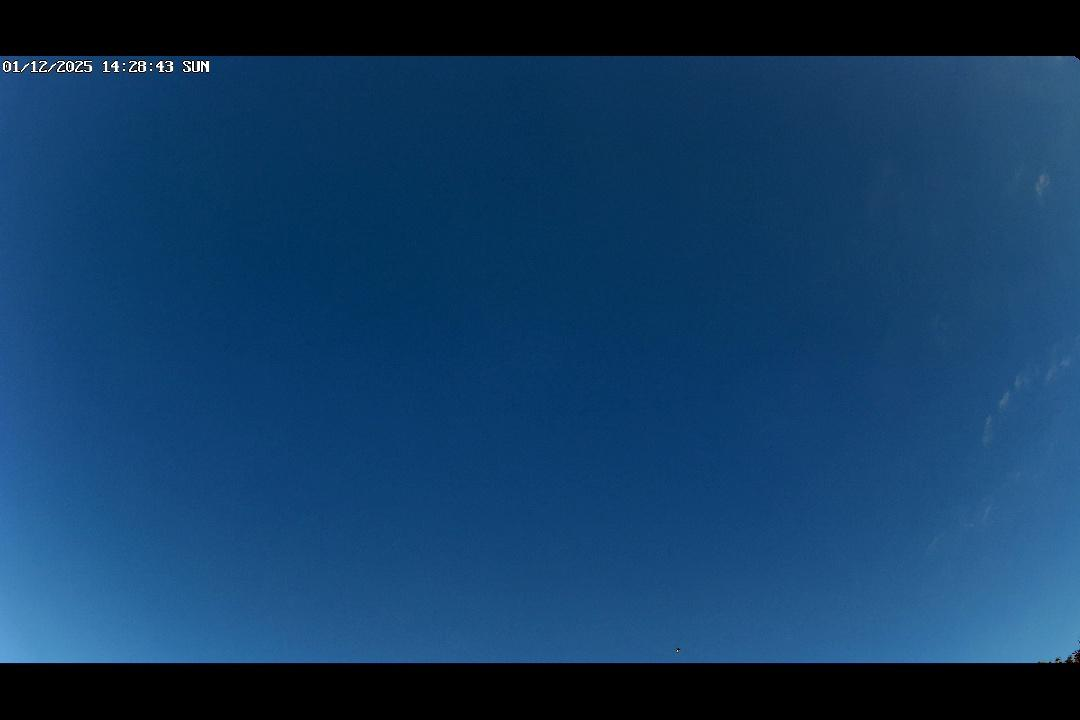WildLife: (669, 646, 691, 658)
